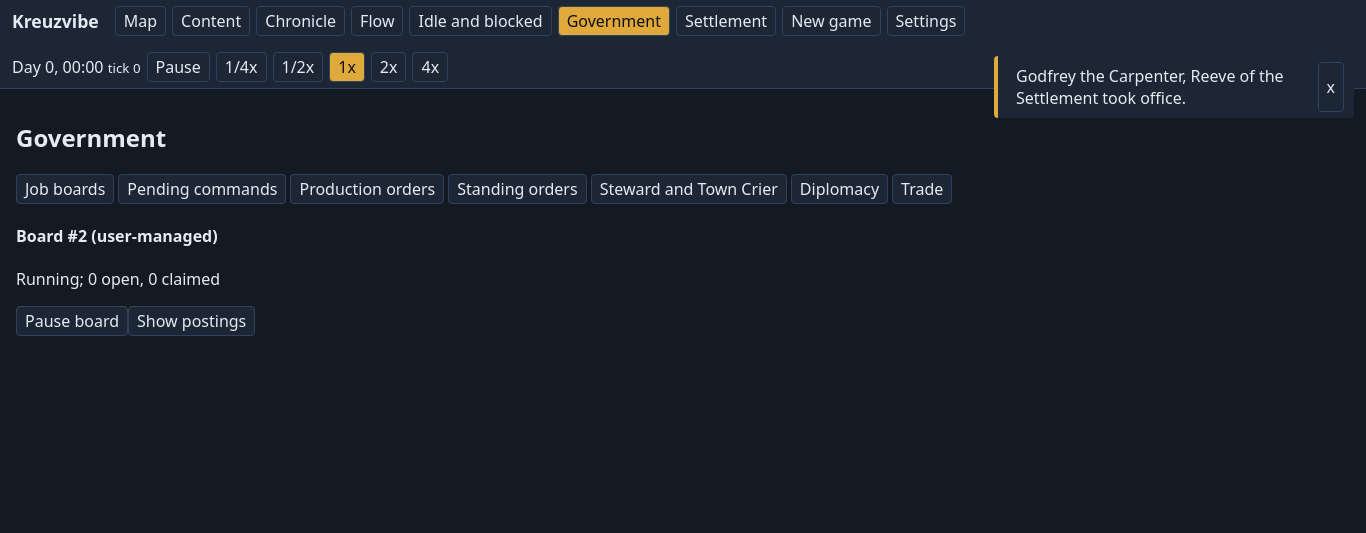
Scenario: DiplomacyTab › lists the factions with both attitudes
Click the tab "Diplomacy". click: (840, 189)
box: [791,174,888,204]
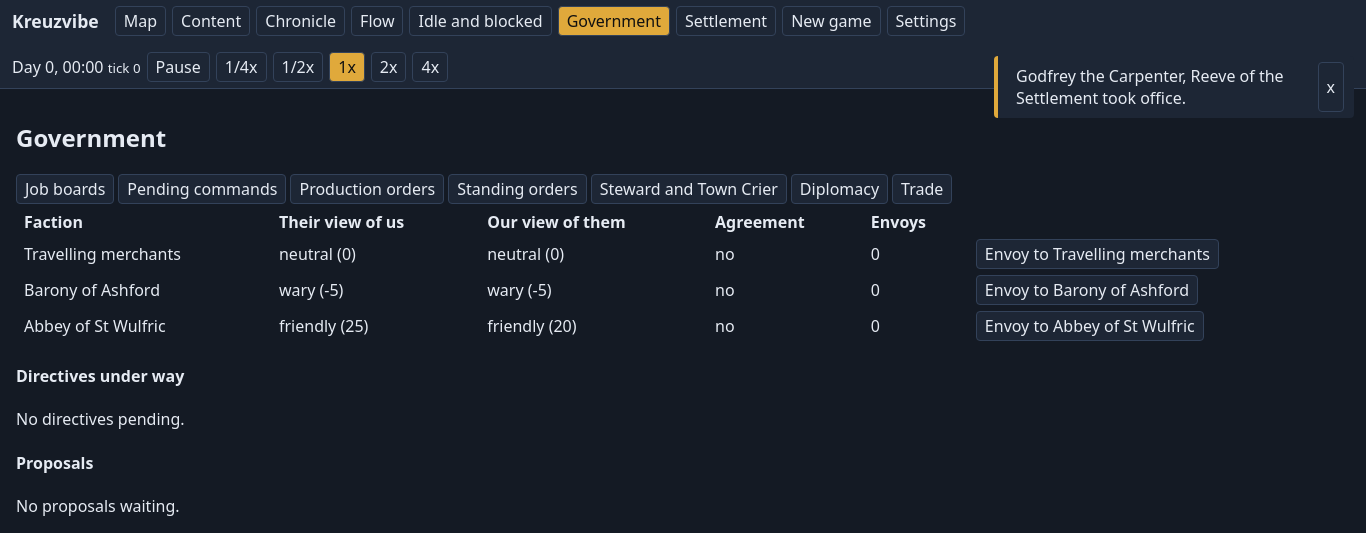
expect the text "friendly (25)" is shown 2 times: met, box [271,308,479,344]; [479,308,707,344]
expect the text "No proposals waiting." is shown: met, box [16,495,180,517]
